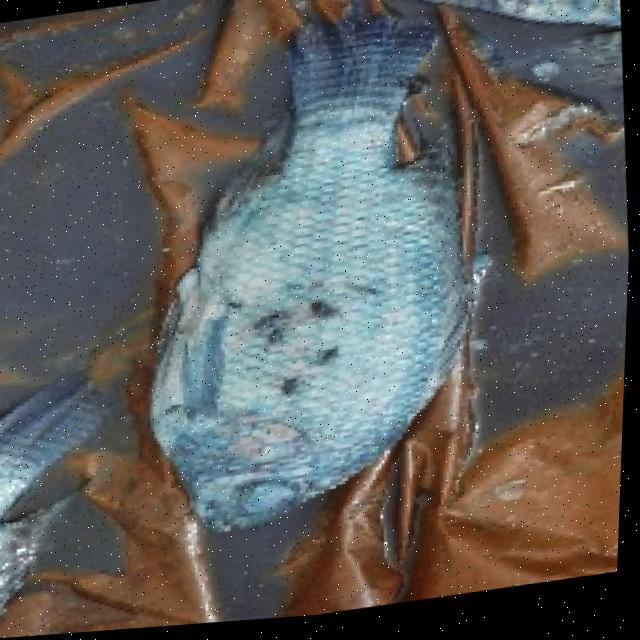Non-Fresh: (133, 66, 491, 564)
